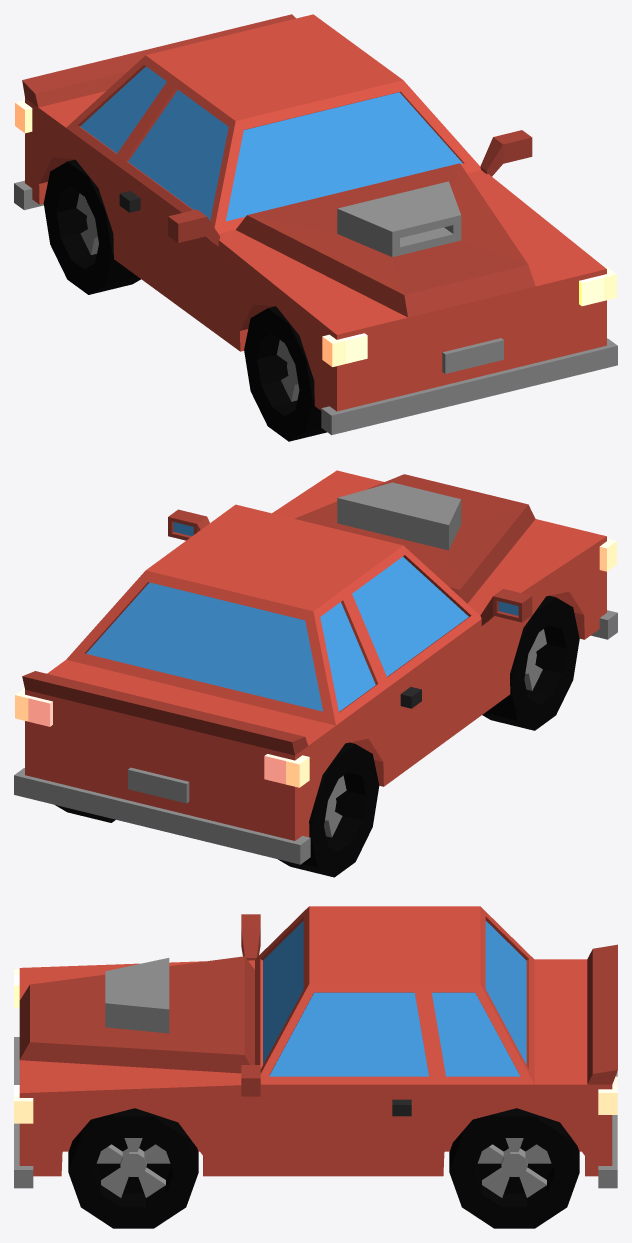
Rendered from CarroEsportivo.glb.
3 views of the same model, one above another, from view 1: azimuth 30°, elevation 25°; view 2: azimuth 150°, elevation 25°; view 3: azimuth 270°, elevation 25° (orthographic). The views are drawn at different scales.
Visible parts, largest first — view 1: Esportivo; view 2: Esportivo; view 3: Esportivo.
Part boxes in pixels (x1,y1,x2,y2): Esportivo: (14,14,617,441); Esportivo: (14,470,617,877); Esportivo: (14,906,617,1228).
Bounding box in the file's own units: 2.62 × 1.65 × 4.08.
